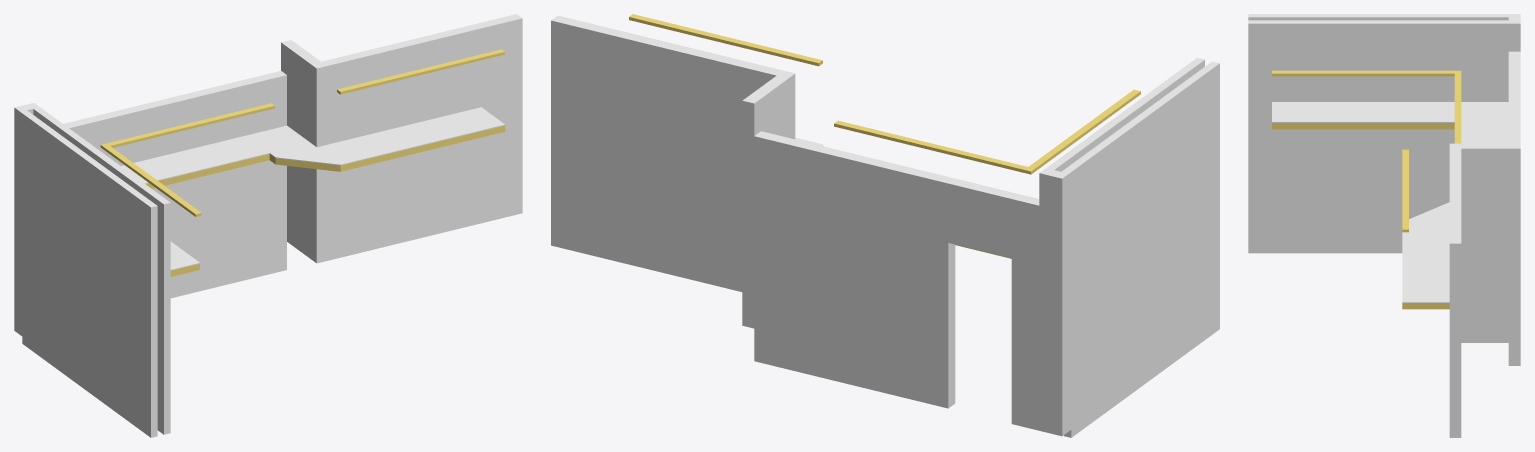
Rendered from OverheadGarageShelves.glb.
3 views of the same model, side by side, from view 1: azimuth 30°, elevation 25°; view 2: azimuth 150°, elevation 25°; view 3: azimuth 270°, elevation 25° (orthographic). The views are drawn at different scales.
Visible parts, largest first — view 1: MainLevelExteriorWalls, ShopDividerWall, GarageWalls, LeftShelf sheet (×3), HorizLongLeft (×4), CornerShelfSheet1 sheet, CornerShelfSheet2 sheet, HorizLongBack; view 2: GarageWalls, MainLevelExteriorWalls, ShopDividerWall, HorizLongLeft (×3); view 3: ShopDividerWall, MainLevelExteriorWalls, LeftShelf sheet (×3), HorizLongLeft (×4), GarageWalls, CornerShelfSheet2 sheet, HorizShort.
Boxes of the visible parts, <box> form: MainLevelExteriorWalls: <box>281,14,522,263</box>; ShopDividerWall: <box>20,107,170,437</box>; GarageWalls: <box>14,71,286,334</box>; LeftShelf sheet (×3): <box>121,107,504,270</box>; HorizLongLeft (×4): <box>100,49,505,216</box>; CornerShelfSheet1 sheet: <box>205,125,310,163</box>; CornerShelfSheet2 sheet: <box>269,143,340,165</box>; HorizLongBack: <box>146,154,269,188</box>; GarageWalls: <box>754,131,1068,436</box>; MainLevelExteriorWalls: <box>551,15,795,328</box>; ShopDividerWall: <box>1046,57,1219,437</box>; HorizLongLeft (×3): <box>629,14,1140,174</box>; ShopDividerWall: <box>1248,14,1508,253</box>; MainLevelExteriorWalls: <box>1449,143,1520,437</box>; LeftShelf sheet (×3): <box>1272,102,1508,302</box>; HorizLongLeft (×4): <box>1272,70,1461,232</box>; GarageWalls: <box>1508,14,1520,365</box>; CornerShelfSheet2 sheet: <box>1409,202,1449,221</box>; HorizShort: <box>1405,303,1446,309</box>.
Bounding box in the file's own units: 7 × 3.26 × 3.51.
